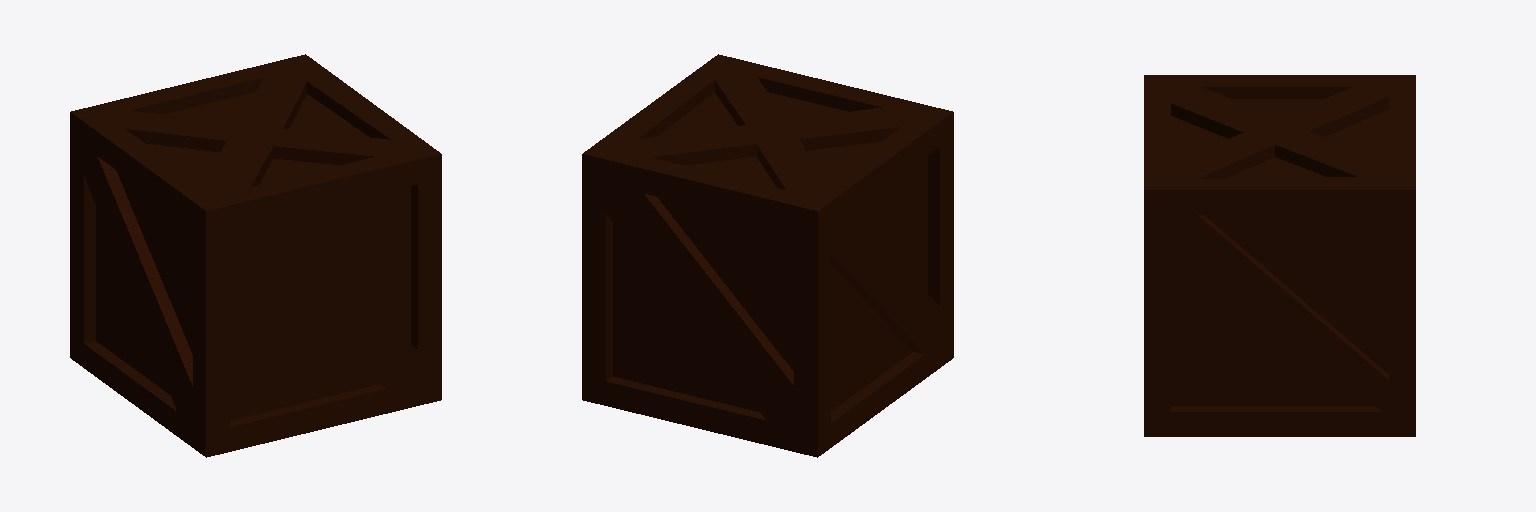
The model's file is Crate.obj.
The picture shows the model from 3 angles: view 1: azimuth 30°, elevation 25°; view 2: azimuth 150°, elevation 25°; view 3: azimuth 270°, elevation 25°; orthographic projection.
Parts seen in each view (by area): view 1: Box001; view 2: Box001; view 3: Box001.
Boxes of the visible parts, box(x1,y1,x2,y2) form: Box001: box(70, 54, 441, 457); Box001: box(582, 54, 953, 457); Box001: box(1144, 75, 1415, 436).
Bounding box in the file's own units: 0.7577 × 0.7577 × 0.7578.